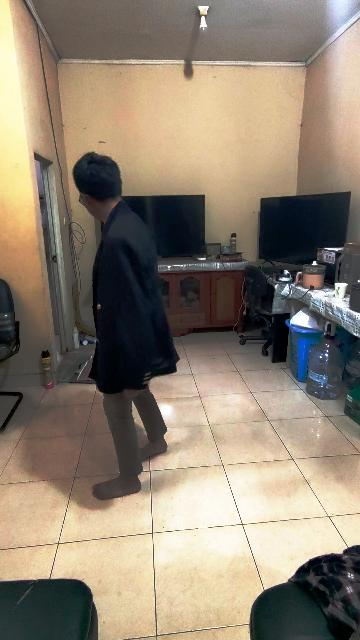berjalan: (79, 151, 167, 505)
